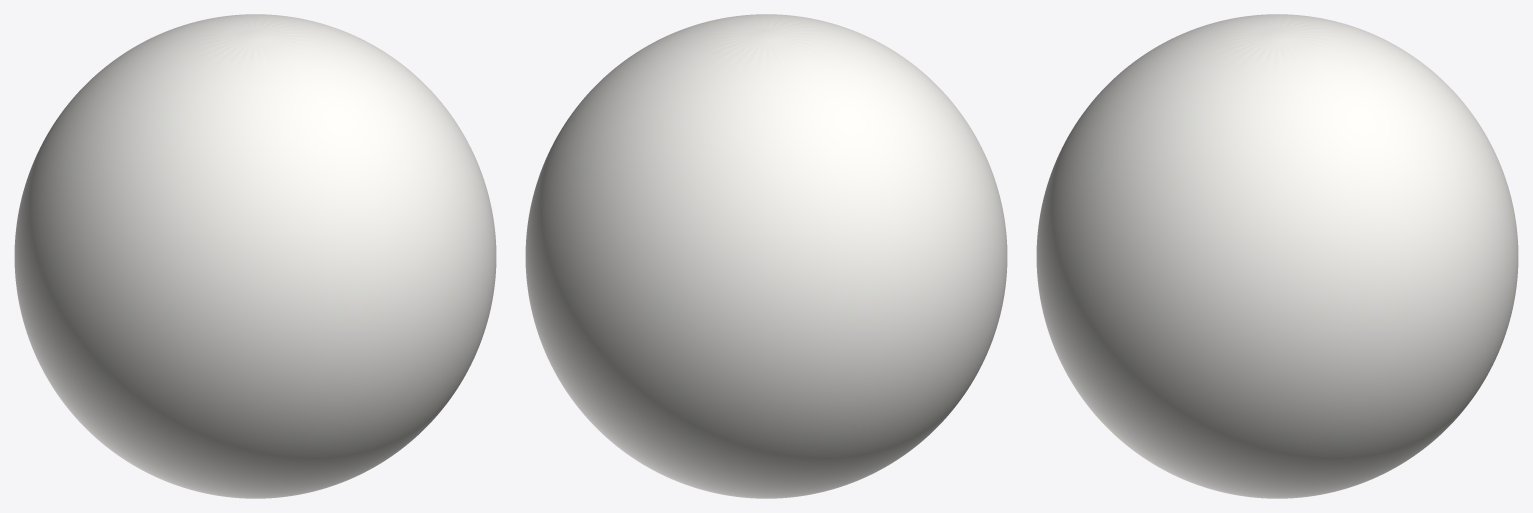
File: kepler.glb
3 views of the same model, side by side, from view 1: azimuth 30°, elevation 25°; view 2: azimuth 150°, elevation 25°; view 3: azimuth 270°, elevation 25° (orthographic).
Parts seen in each view (by area): view 1: clouds_1; view 2: clouds_1; view 3: clouds_1.
Part boxes in pixels (bbox=[...]): clouds_1: bbox=[14, 14, 496, 498]; clouds_1: bbox=[525, 14, 1007, 498]; clouds_1: bbox=[1036, 14, 1518, 498].
Size of the model in its own units: 1.98 by 2 by 1.98.
Materials: 3 (2 with a texture image).
